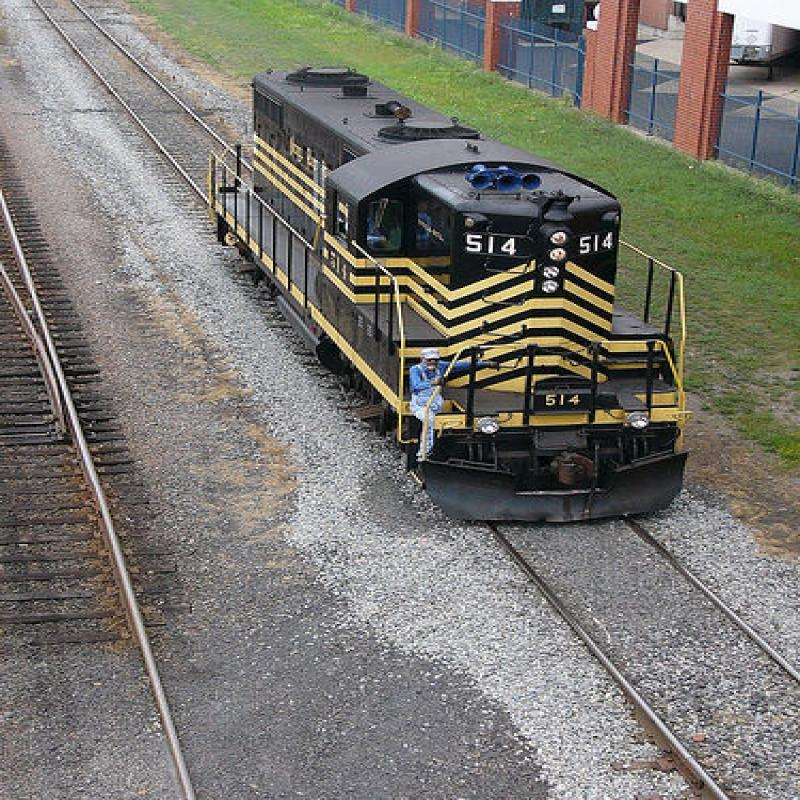train: (202, 62, 690, 521)
